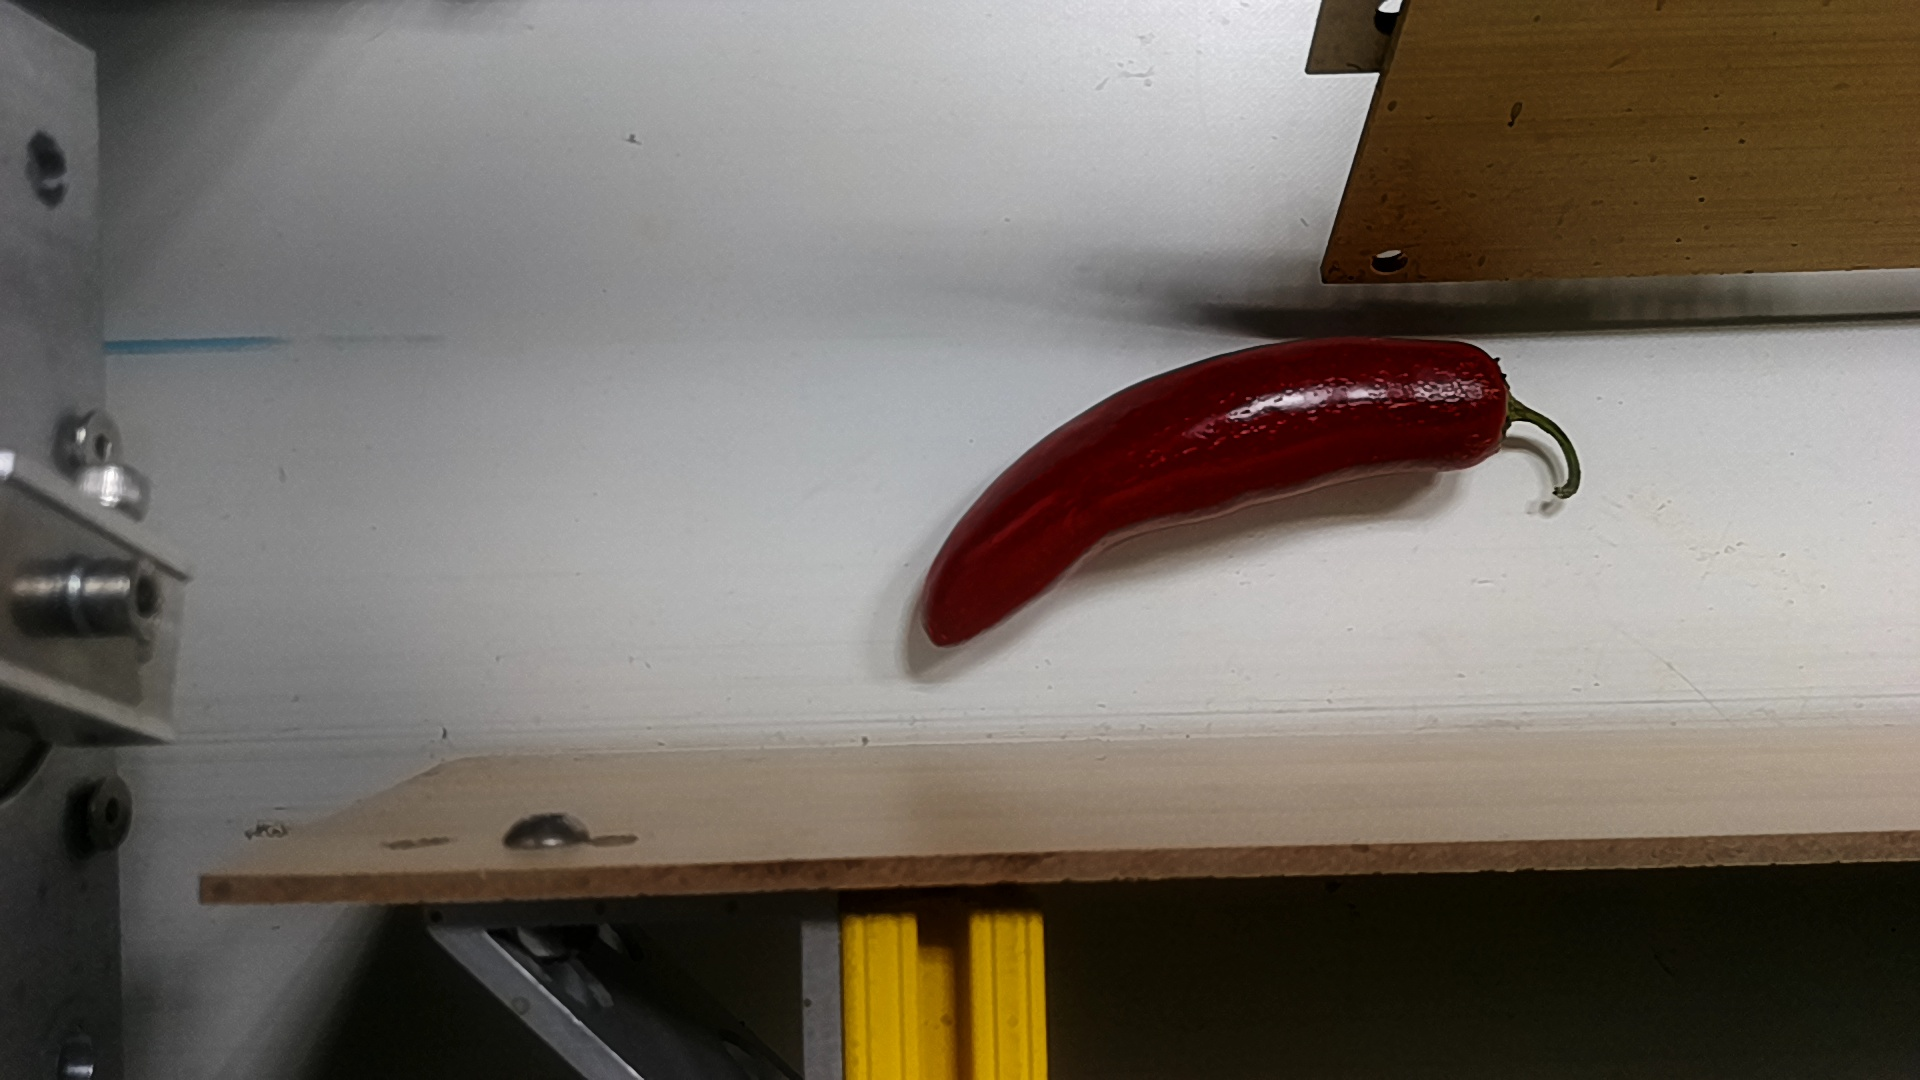Cut Point: (1447, 336, 1548, 476)
